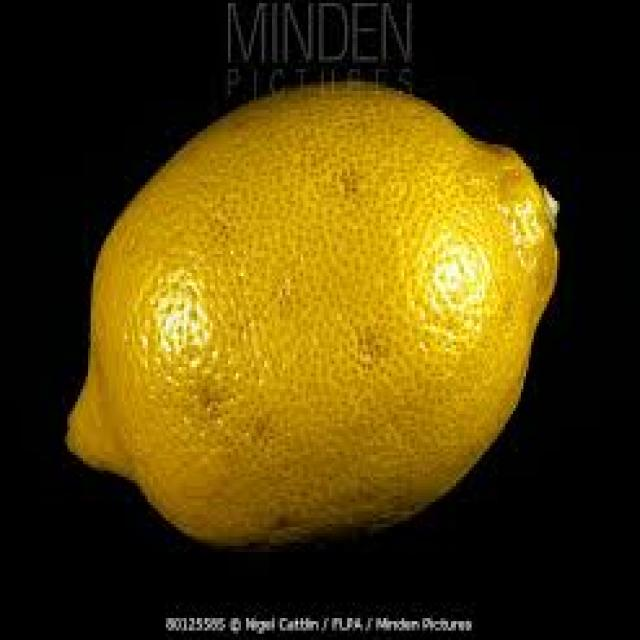Ripe: (64, 76, 559, 557)
